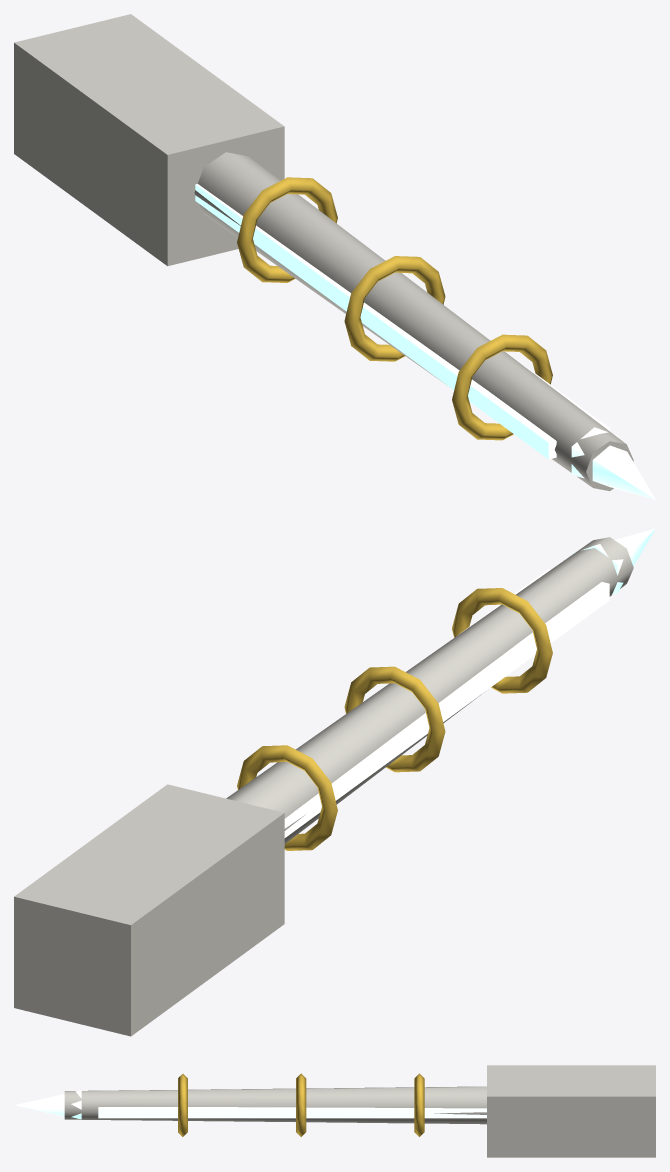
The model's file is wpn_alpha_lance.glb.
3 views of the same model, one above another, from view 1: azimuth 30°, elevation 25°; view 2: azimuth 150°, elevation 25°; view 3: azimuth 270°, elevation 25° (orthographic). The views are drawn at different scales.
Parts seen in each view (by area): view 1: weapon; view 2: weapon; view 3: weapon.
Boxes of the visible parts, left/top/right/bottom form: weapon: left=14, top=14, right=655, bottom=499; weapon: left=14, top=528, right=655, bottom=1036; weapon: left=15, top=1065, right=655, bottom=1157.
Size of the model in its own units: 0.22 by 0.215 by 1.9.
